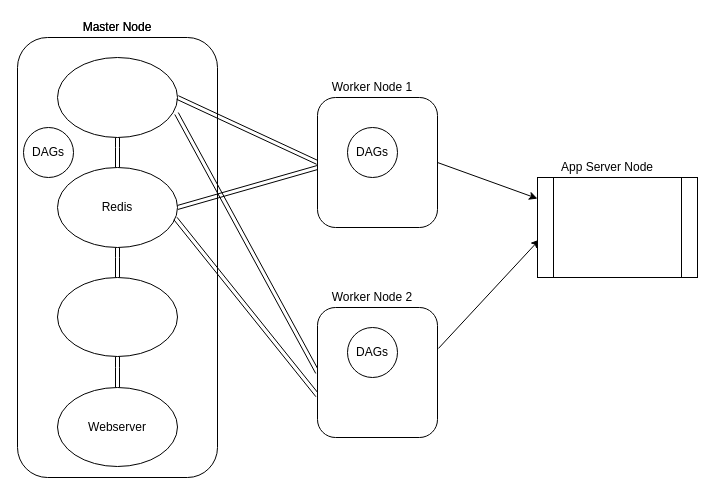
The diagram is 715 pixels wide and 495 high, and some of its shapes have lost their labels. Each missing label, with the centre of its shape:
"Postgres" belongs at point (117, 97).
"Scheduller" belongs at point (117, 316).
"Springboot Microservice Application REST Endpoint" belongs at point (617, 227).
